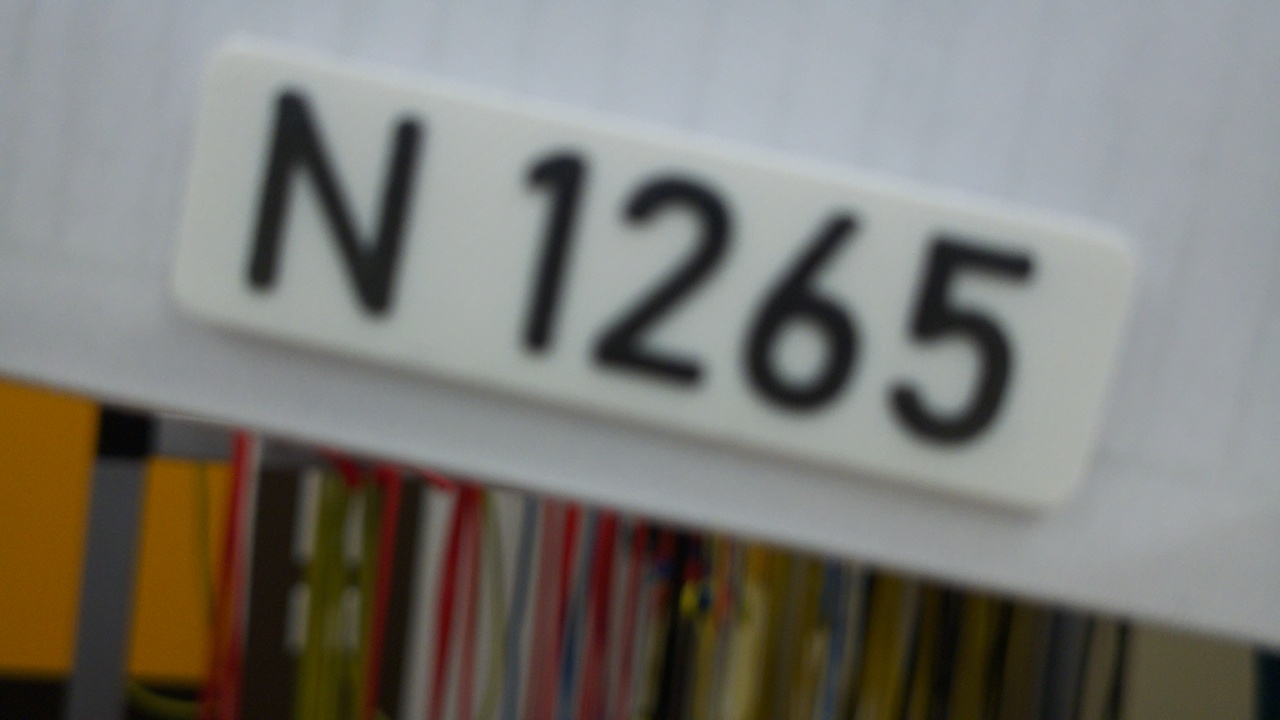license_plate: (165, 26, 1151, 524)
